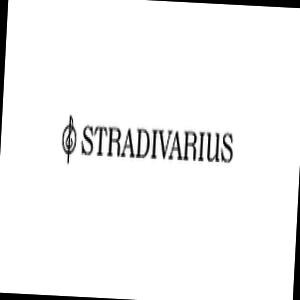stradivarius: (211, 56, 268, 166)
